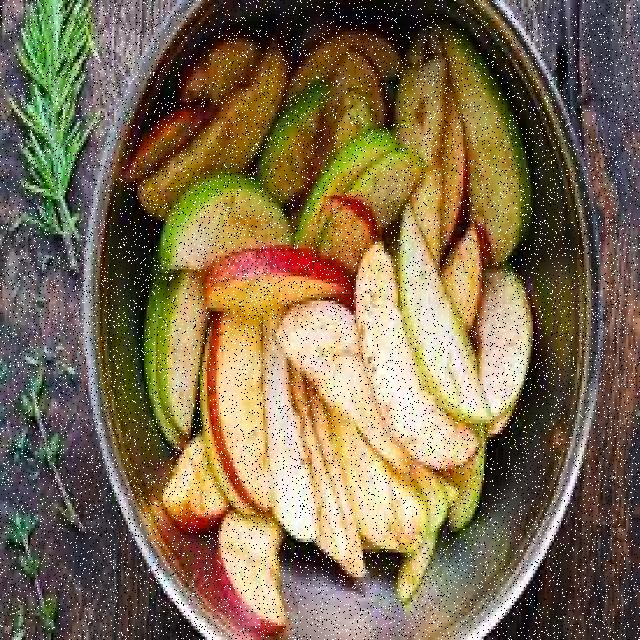Apple: (353, 253, 470, 469), (145, 42, 289, 212), (397, 208, 495, 436), (450, 30, 533, 270), (279, 302, 393, 454), (206, 312, 274, 518), (300, 136, 430, 225), (218, 505, 297, 639), (205, 242, 352, 309), (157, 187, 292, 256), (156, 271, 202, 439)
